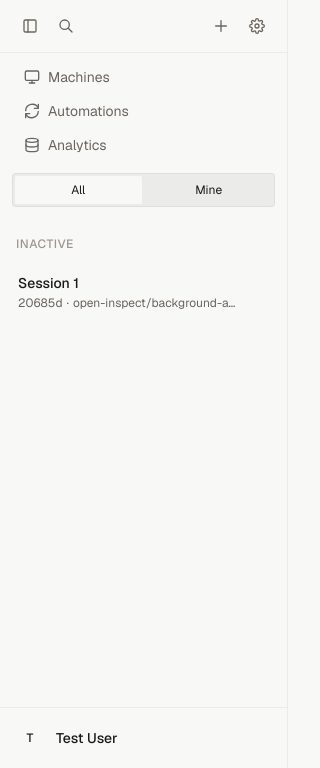
SessionSidebar › opens rename actions on mobile long press
Press the mouse on the link "Session 1 20685d · open-inspect/background-agents" at coordinates (144, 292), box x1=18 y1=273 x2=271 y2=311
Wait 450 ms
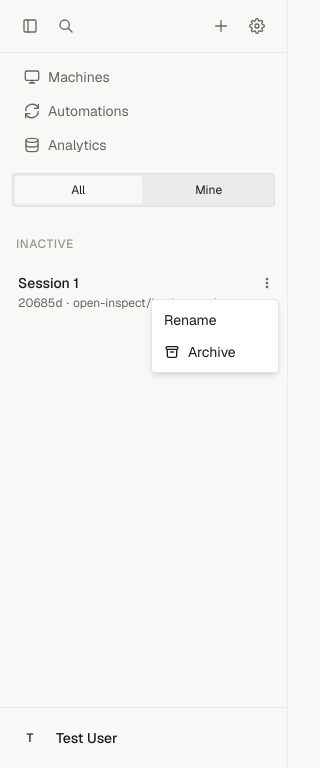
Expected: the menu item "Rename" is shown, x1=164 y1=311 x2=217 y2=329
Expected: the menu item "Archive" is shown, x1=164 y1=343 x2=236 y2=361
